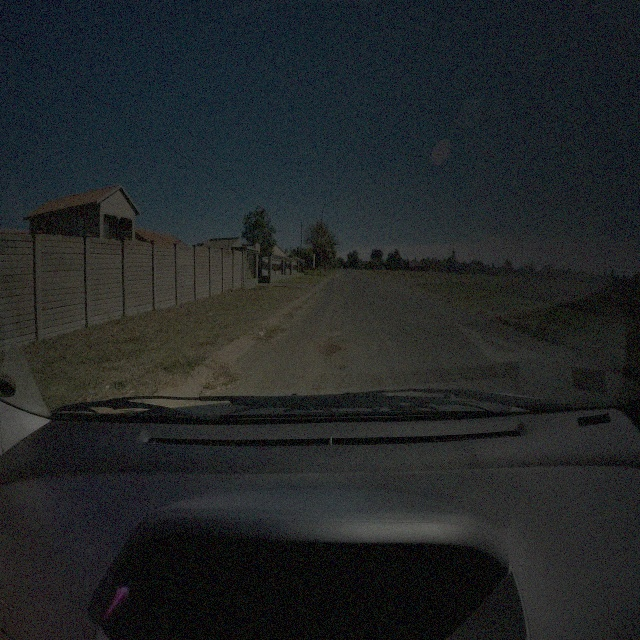pothole: (315, 342, 341, 360), (338, 361, 347, 374)
